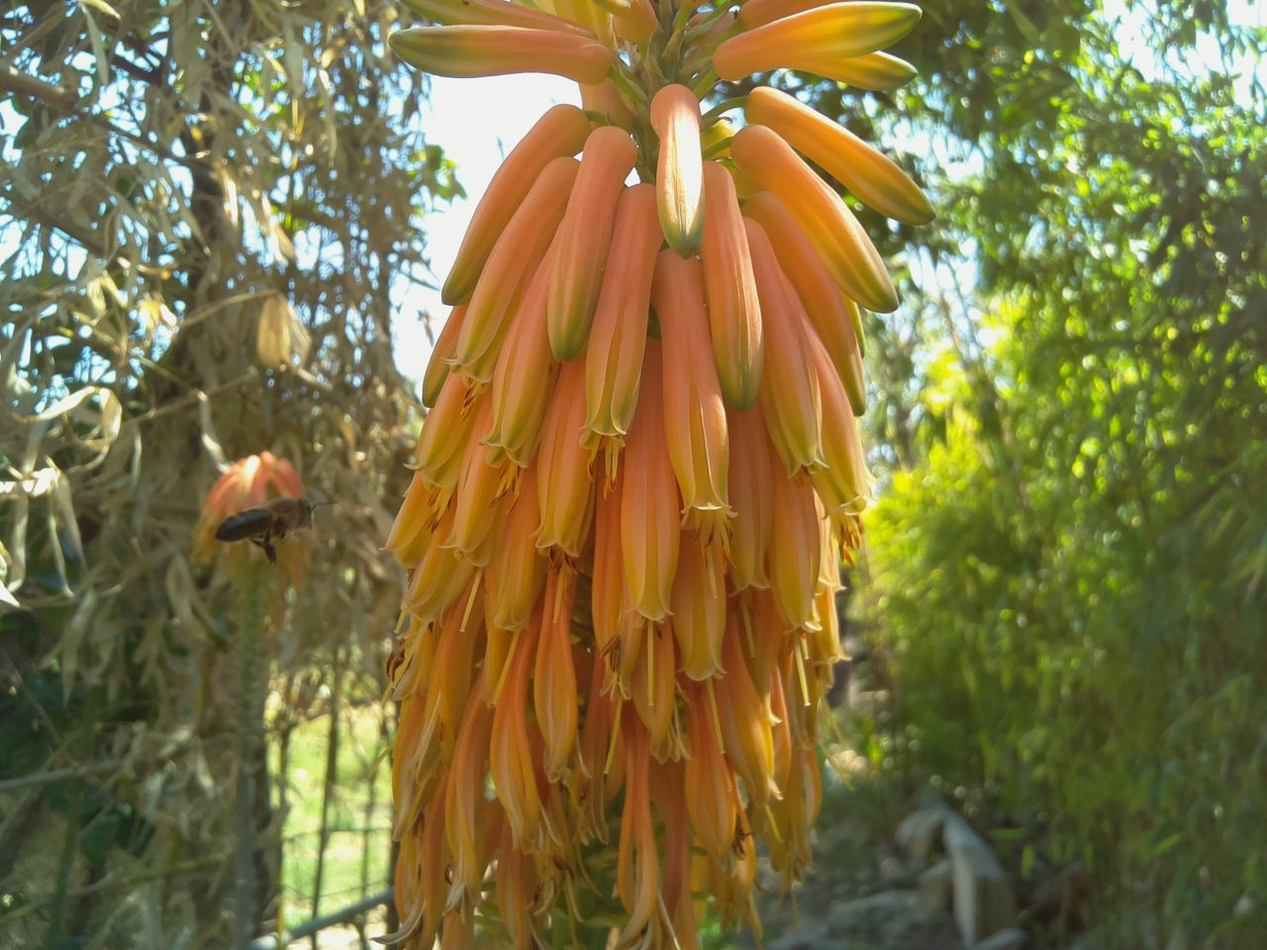Apis mellifera: (204, 501, 352, 562)
